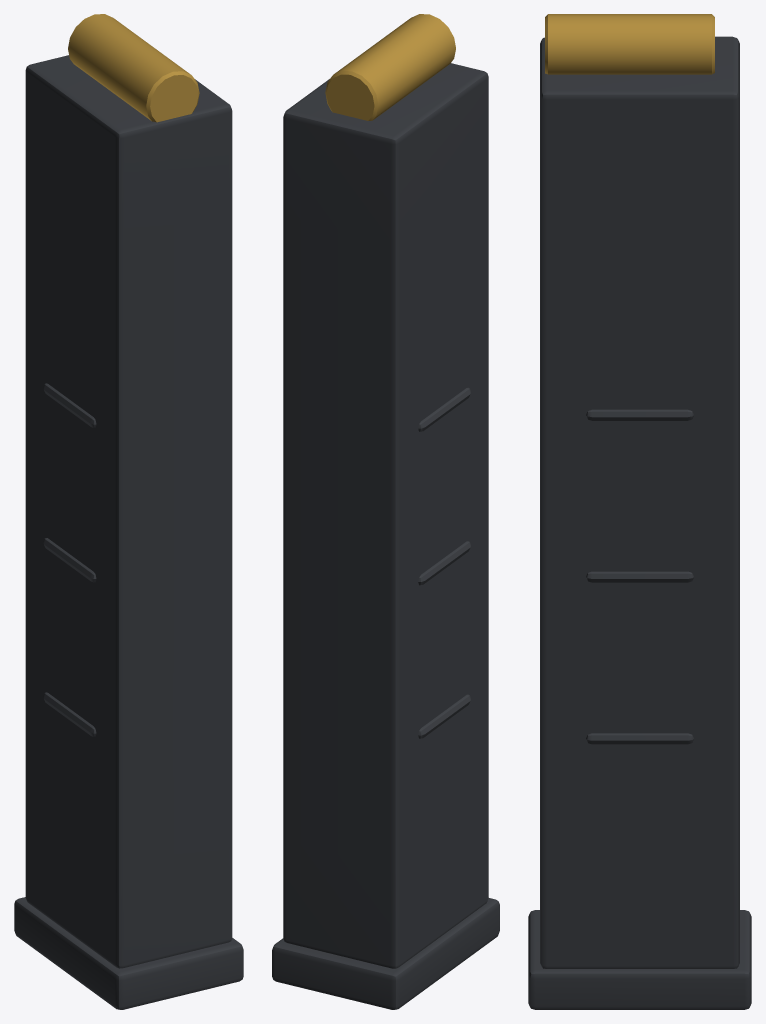
Rendered from mod_mastiff_standard_mag.glb.
The picture shows the model from 3 angles, left to right: view 1: azimuth 30°, elevation 25°; view 2: azimuth 150°, elevation 25°; view 3: azimuth 270°, elevation 25°; orthographic projection. The views are drawn at different scales.
Visible parts, largest first — view 1: Magazine, MagazineRound; view 2: Magazine, MagazineRound; view 3: Magazine, MagazineRound.
Boxes of the visible parts, x1,y1,x2,y2 form: Magazine: (14, 55, 243, 1009); MagazineRound: (68, 14, 199, 122); Magazine: (272, 63, 499, 1009); MagazineRound: (325, 14, 455, 120); Magazine: (528, 36, 751, 1009); MagazineRound: (545, 14, 714, 74).
Size of the model in its own units: 0.0264 by 0.1808 by 0.038.
